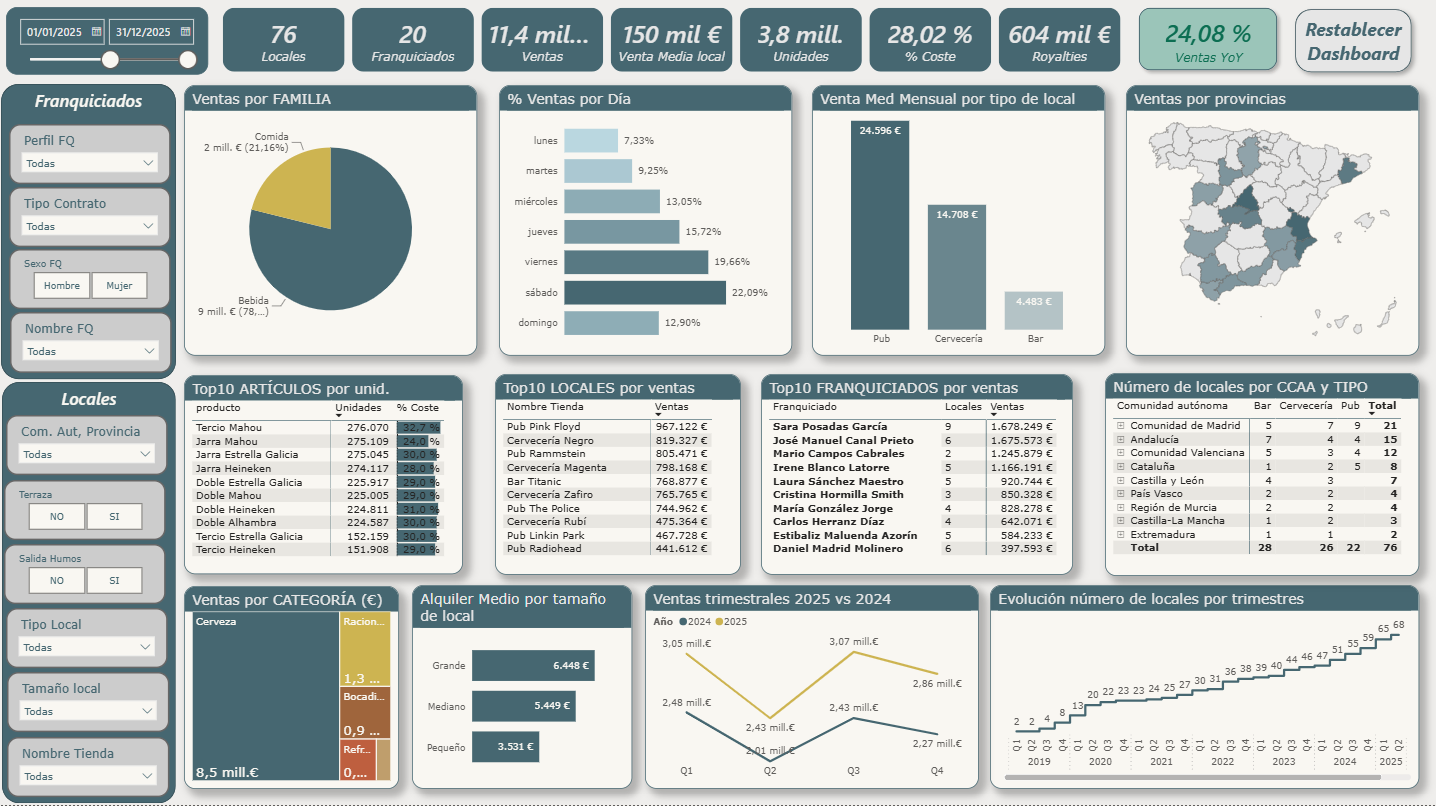

Layout of this report page (visuals, bound fields, positions):
{"tool":"powerbi","page":{"name":"CdM Ventas","canvas":[1920,1080],"ordinal":1},"visuals":[{"type":"cardVisual","title":"KPIs","fields":{"Data":["Medidas.#locales","Medidas.#franquiciados","Medidas.€ventas","Medidas.Venta Media por local","Medidas.#unidades","Medidas.%coste","Medidas.€royalties"]},"box":[280,3.3,1229.2,119.3],"z":0},{"type":"shape","box":[1.6,120.9,232.7,392.5],"z":0,"group":"g2"},{"type":"shape","box":[3.2,517.2,231.1,560.3],"z":0,"group":"g1"},{"type":"slicer","title":"Filtro Nombre","fields":{"Values":["franquiciados.franquiciado"]},"box":[12.9,424.5,215.3,80.7],"z":500,"group":"g2"},{"type":"pieChart","title":"Ventas por FAMILIA","fields":{"Y":["Medidas.€ventas"],"Series":["productos.familia"]},"box":[245.3,122.3,390,360],"z":1000},{"type":"slicer","title":"Filtro Perfil FQ","fields":{"Values":["franquiciados.perfil"]},"box":[12.8,173.8,215,80],"z":1000,"group":"g2"},{"type":"slicer","title":"Filtro Local","fields":{"Values":["locales.Nombre Tienda"]},"box":[10,989,216.2,79.9],"z":1000,"group":"g1"},{"type":"slicer","title":"Filtro Tipo Contrato","fields":{"Values":["franquiciados.tipo_contrato"]},"box":[12.8,257.4,215,80],"z":2000,"group":"g2"},{"type":"slicer","title":"Filtro Provincia","fields":{"Values":["Cod_Postales.Comunidad autónoma","Cod_Postales.Provincia"]},"box":[8.6,561.4,215,80],"z":2000,"group":"g1"},{"type":"lineChart","title":"Evolución número de locales por trimestres","fields":{"Category":["calendario.Año","calendario.Trimestre"],"Y":["Medidas.Locales acum"]},"box":[1316.7,788,570.9,270.7],"z":2000},{"type":"slicer","title":"Filtro Sexo","fields":{"Values":["franquiciados.sexo"]},"box":[12.8,340.9,215,80],"z":3000,"group":"g2"},{"type":"pivotTable","title":"Top10 LOCALES por ventas","fields":{"Values":["Medidas.€ventas"],"Rows":["locales.Nombre Tienda"]},"box":[658.4,507.2,326.8,266.6],"z":3000},{"type":"slicer","title":"Filtro Sexo","fields":{"Values":["locales.salida_humos"]},"box":[6.1,732.5,215,80],"z":3000,"group":"g1"},{"type":"clusteredBarChart","title":"% Ventas por Día","fields":{"Y":["Medidas.€ventas"],"Category":["calendario.Día"]},"box":[663.1,122.1,390,360.4],"z":4000},{"type":"slicer","title":"Filtro Tipo Local","fields":{"Values":["locales.Tipo Local"]},"box":[8.6,818,215,80],"z":4000,"group":"g1"},{"type":"pivotTable","title":"Top10 ARTÍCULOS por unid.","fields":{"Values":["Medidas.#unidades","Medidas.%coste"],"Rows":["productos.producto"]},"box":[245.3,508.1,371.1,264.7],"z":5000},{"type":"slicer","title":"Filtro Terraza","fields":{"Values":["locales.terraza"]},"box":[6.1,646.9,215,80],"z":5000,"group":"g1"},{"type":"treemap","title":"Ventas por CATEGORÍA (€)","fields":{"Group":["productos.categoria"],"Values":["Medidas.€ventas"]},"box":[244.7,788.7,286,270],"z":6000},{"type":"slicer","title":"Filtro Tamaño Local","fields":{"Values":["locales.Tamaño local"]},"box":[10,903.6,216.2,79.9],"z":6000,"group":"g1"},{"type":"pivotTable","title":"Número de locales por CCAA y TIPO","fields":{"Values":["Medidas.#locales"],"Columns":["locales.Tipo Local"],"Rows":["Cod_Postales.Comunidad autónoma","Cod_Postales.Provincia"]},"box":[1469.9,505.4,417.6,270],"z":7000},{"type":"group","id":"g1","title":"Filtros LOCAL","box":[3.2,517.2,231.1,560.3],"z":8000},{"type":"group","id":"g2","title":"Filtros FRANQUICIADOS","box":[1.6,120.9,232.7,392.5],"z":9000},{"type":"slicer","fields":{"Values":["calendario.Fecha"]},"box":[8,18.6,268.7,90.4],"z":10000},{"type":"shapeMap","title":"Ventas por provincias","fields":{"Category":["Cod_Postales.Provincia"],"Value":["Medidas.Venta Med Local"]},"box":[1497.5,122.1,390,360.4],"z":11000},{"type":"clusteredColumnChart","title":"Venta Med Mensual por tipo de local","fields":{"Category":["locales.Tipo Local"],"Y":["Medidas.Venta Med Local/Mes"]},"box":[1080.3,122.1,390,360.4],"z":12000},{"type":"clusteredBarChart","title":"Alquiler Medio por tamaño de local","fields":{"Category":["locales.Tamaño local"],"Y":["Medidas.Alquiler Medio"]},"box":[548.4,788,293.2,270.7],"z":13000},{"type":"pivotTable","title":"Top10 FRANQUICIADOS por ventas","fields":{"Values":["Medidas.€ventas"],"Rows":["franquiciados.franquiciado","franquiciados.número_locales"]},"box":[1012.5,506.7,415,267.3],"z":14000},{"type":"shape","box":[1711.7,10.1,176.5,105.6],"z":15000},{"type":"lineChart","title":"Ventas trimestrales 2025 vs 2024","fields":{"Category":["calendario.Trimestre"],"Y":["Medidas.€ventas"],"Series":["calendario.Año"]},"box":[858.5,788,444.1,270.7],"z":16000},{"type":"cardVisual","fields":{"Data":["Medidas.%VentasVsAñoAnterior"]},"box":[1497.6,3.3,218.7,117.6],"z":17000}]}

Visuals, with their boxes in screenshot pixels (x1, y1, x2, y2), scaled from the page's 1920x1080 canvas onto the 1436x806 screenshot:
"KPIs" cardVisual: pyautogui.locateOnScreen(209, 2, 1129, 91)
shape: pyautogui.locateOnScreen(1, 90, 175, 383)
shape: pyautogui.locateOnScreen(2, 386, 175, 804)
"Filtro Nombre" slicer: pyautogui.locateOnScreen(10, 317, 171, 377)
"Ventas por FAMILIA" pieChart: pyautogui.locateOnScreen(183, 91, 475, 360)
"Filtro Perfil FQ" slicer: pyautogui.locateOnScreen(10, 130, 170, 189)
"Filtro Local" slicer: pyautogui.locateOnScreen(7, 738, 169, 798)
"Filtro Tipo Contrato" slicer: pyautogui.locateOnScreen(10, 192, 170, 252)
"Filtro Provincia" slicer: pyautogui.locateOnScreen(6, 419, 167, 479)
"Evolución número de locales por trimestres" lineChart: pyautogui.locateOnScreen(985, 588, 1412, 790)
"Filtro Sexo" slicer: pyautogui.locateOnScreen(10, 254, 170, 314)
"Top10 LOCALES por ventas" pivotTable: pyautogui.locateOnScreen(492, 379, 737, 577)
"Filtro Sexo" slicer: pyautogui.locateOnScreen(5, 547, 165, 606)
"% Ventas por Día" clusteredBarChart: pyautogui.locateOnScreen(496, 91, 788, 360)
"Filtro Tipo Local" slicer: pyautogui.locateOnScreen(6, 610, 167, 670)
"Top10 ARTÍCULOS por unid." pivotTable: pyautogui.locateOnScreen(183, 379, 461, 577)
"Filtro Terraza" slicer: pyautogui.locateOnScreen(5, 483, 165, 542)
"Ventas por CATEGORÍA (€)" treemap: pyautogui.locateOnScreen(183, 589, 397, 790)
"Filtro Tamaño Local" slicer: pyautogui.locateOnScreen(7, 674, 169, 734)
"Número de locales por CCAA y TIPO" pivotTable: pyautogui.locateOnScreen(1099, 377, 1412, 579)
"Filtros LOCAL" group: pyautogui.locateOnScreen(2, 386, 175, 804)
"Filtros FRANQUICIADOS" group: pyautogui.locateOnScreen(1, 90, 175, 383)
slicer - calendario.Fecha: pyautogui.locateOnScreen(6, 14, 207, 81)
"Ventas por provincias" shapeMap: pyautogui.locateOnScreen(1120, 91, 1412, 360)
"Venta Med Mensual por tipo de local" clusteredColumnChart: pyautogui.locateOnScreen(808, 91, 1100, 360)
"Alquiler Medio por tamaño de local" clusteredBarChart: pyautogui.locateOnScreen(410, 588, 629, 790)
"Top10 FRANQUICIADOS por ventas" pivotTable: pyautogui.locateOnScreen(757, 378, 1068, 578)
shape: pyautogui.locateOnScreen(1280, 8, 1412, 86)
"Ventas trimestrales 2025 vs 2024" lineChart: pyautogui.locateOnScreen(642, 588, 974, 790)
cardVisual - Medidas.%VentasVsAñoAnterior: pyautogui.locateOnScreen(1120, 2, 1284, 90)
